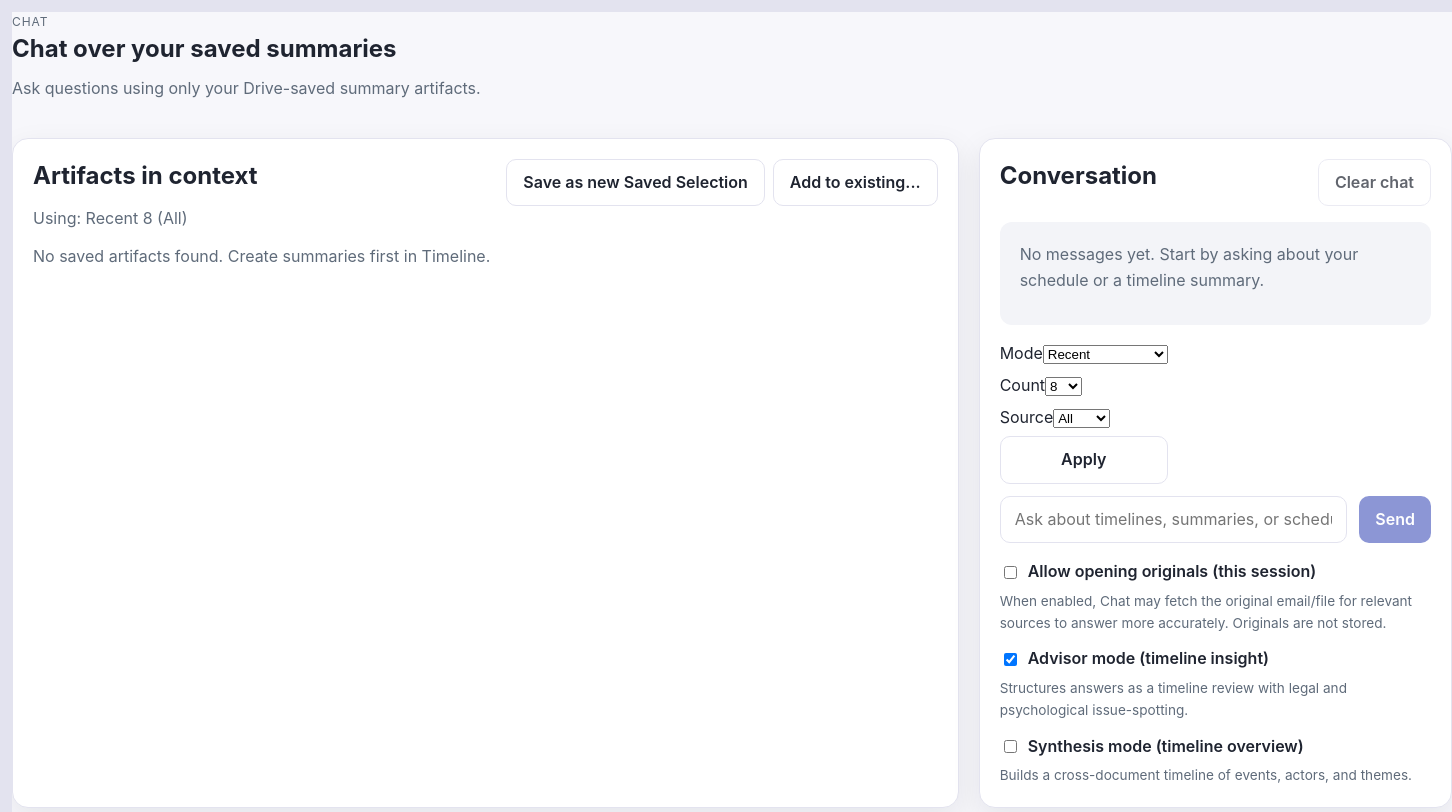
Scenario: ChatPageClient › shows mapped provider error message for code not_configured
Type "trigger error" into the field named "chat input" at (1174, 520), box [1000, 496, 1347, 543]
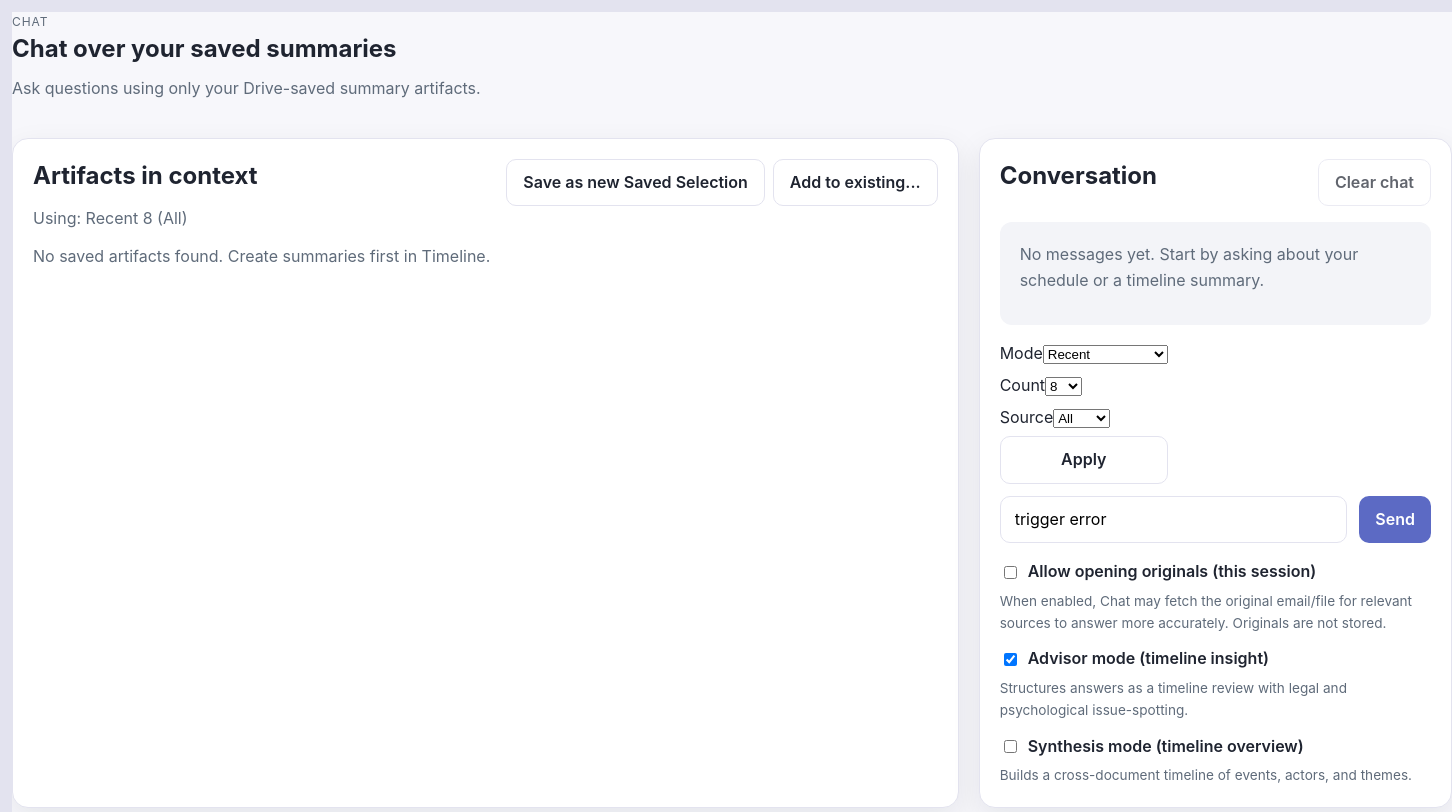
Click the button "Send" at (1395, 520), box [1359, 496, 1431, 543]
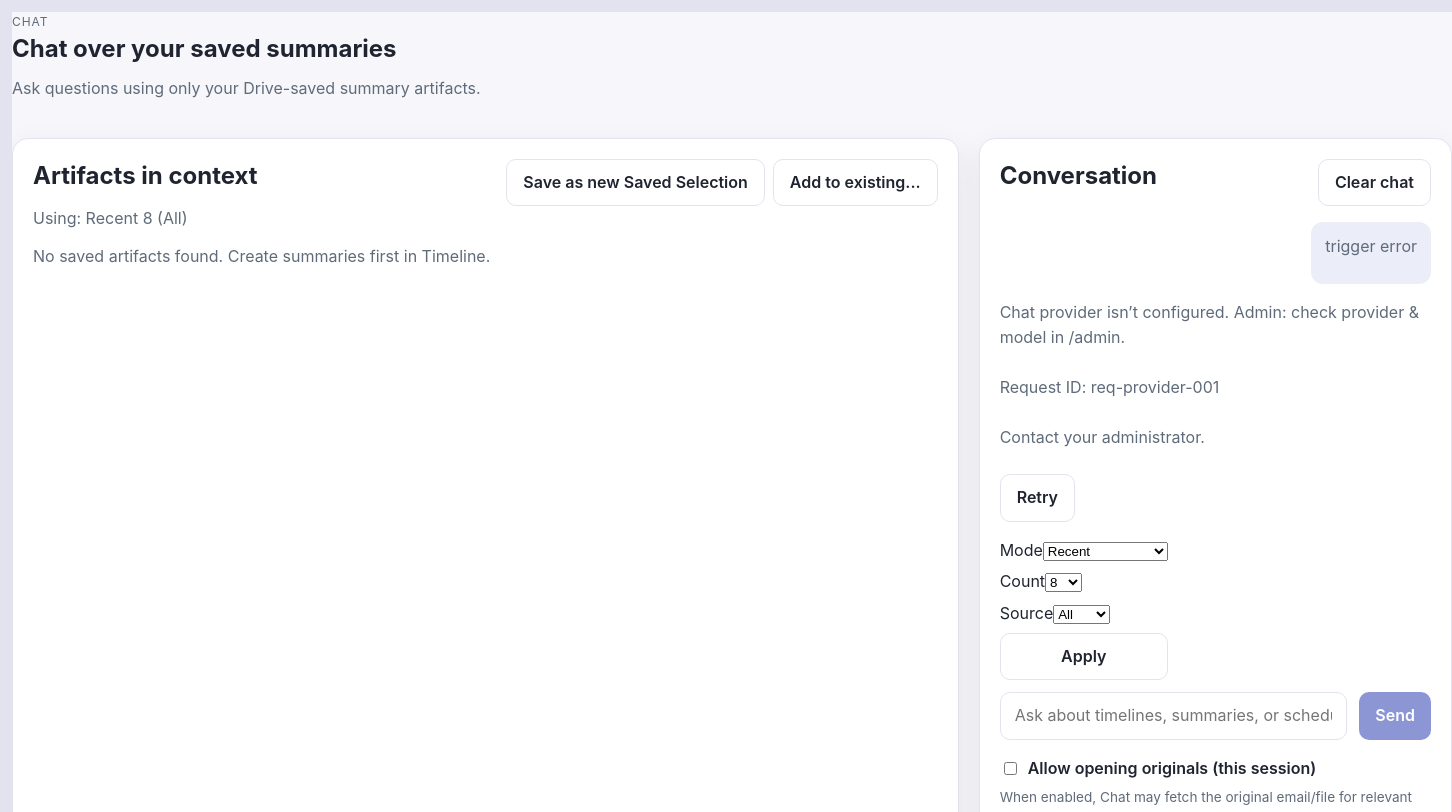
Now the text "Chat provider isn’t configured. Admin: check provider & model in /admin." is shown, box [1000, 300, 1431, 351]
Now the text "Request ID: req-provider-001" is shown, box [1000, 377, 1219, 397]
